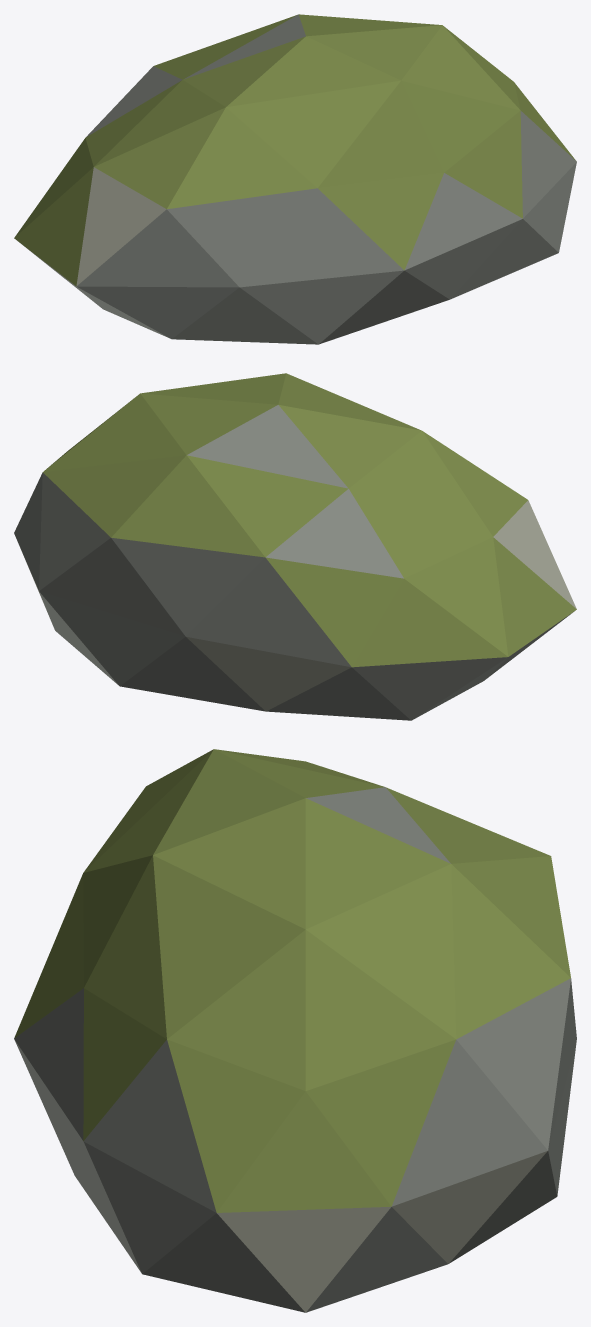
Rendered from SM_MossRock_05.fbx.
3 renders of one model, top to bottom at view 1: azimuth 30°, elevation 25°; view 2: azimuth 150°, elevation 25°; view 3: azimuth 270°, elevation 25°, orthographic. The views are drawn at different scales.
Parts seen in each view (by area): view 1: SM_MossRock_05; view 2: SM_MossRock_05; view 3: SM_MossRock_05.
Part boxes in pixels (bbox=[...]): SM_MossRock_05: bbox=[14, 14, 576, 344]; SM_MossRock_05: bbox=[14, 373, 576, 720]; SM_MossRock_05: bbox=[14, 749, 576, 1312].
Bounding box in the file's own units: 3.46 × 2.26 × 1.53.
